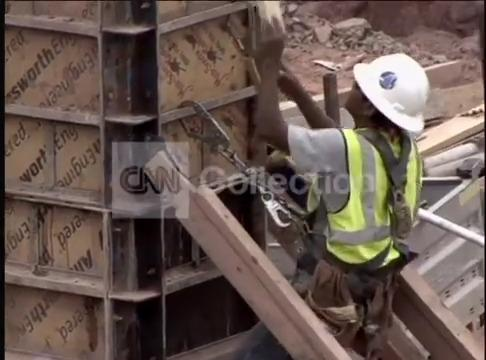Helmet: (352, 52, 429, 133)
Person: (230, 0, 435, 360)
Safety Vest: (322, 129, 423, 272)
bare-arms: (250, 14, 291, 59), (275, 63, 301, 96)
